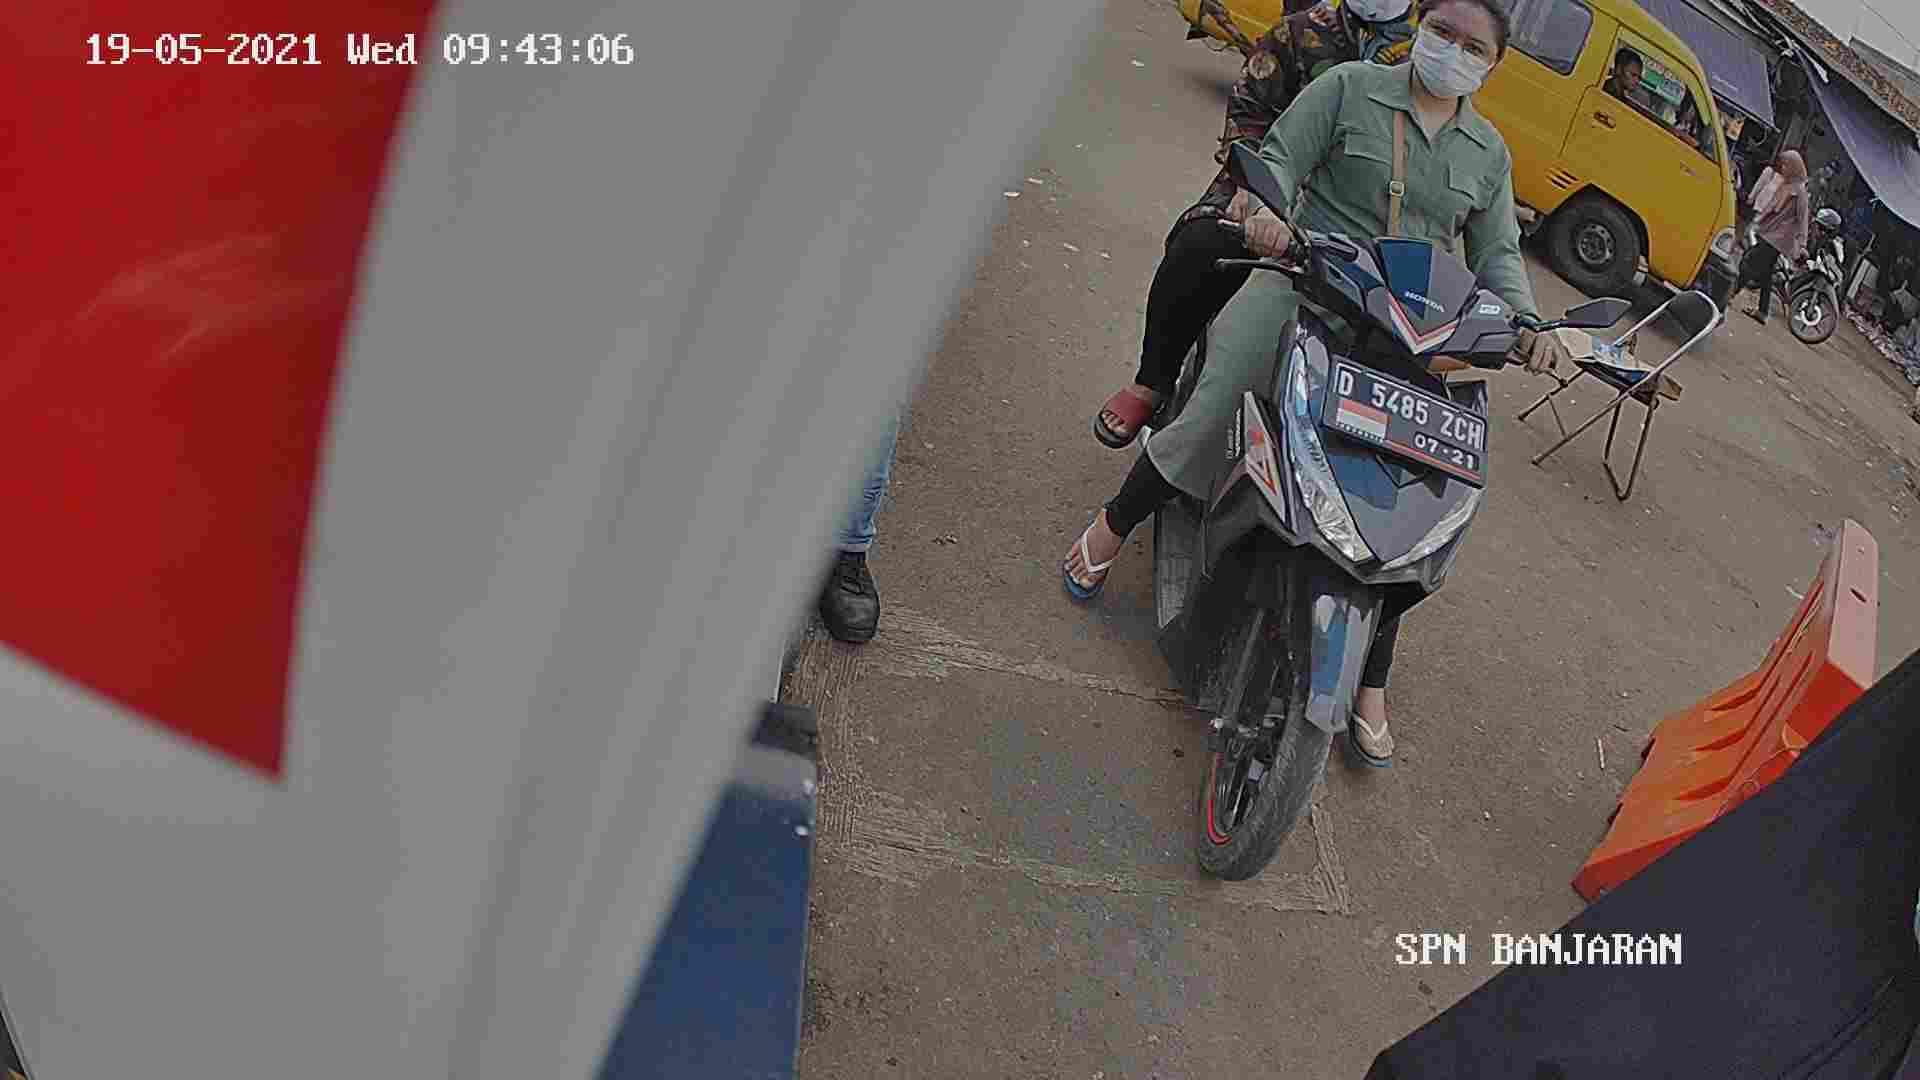motor: (1156, 253, 1497, 880)
